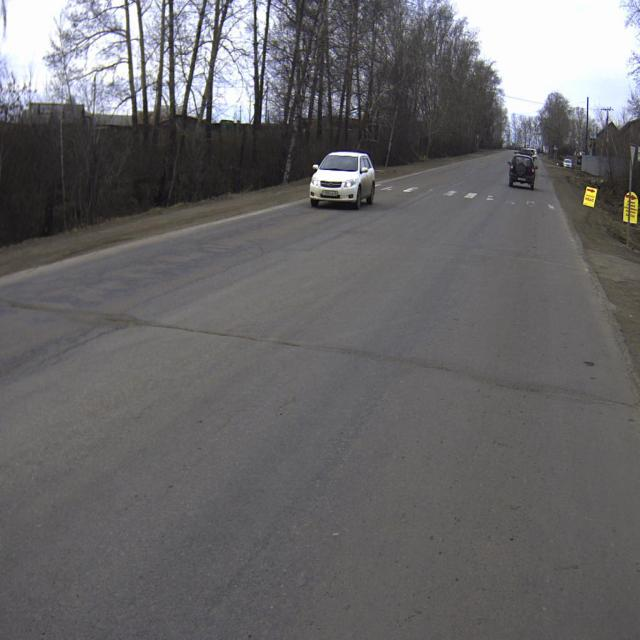road: (0, 150, 640, 639)
